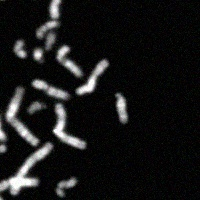chromosome: (9, 142, 52, 194), (4, 87, 39, 147), (52, 104, 86, 149), (75, 60, 108, 95), (56, 46, 83, 78), (31, 80, 68, 100), (0, 178, 38, 191), (36, 20, 59, 39), (55, 177, 76, 197), (114, 93, 127, 123), (0, 188, 31, 200), (0, 90, 5, 142), (28, 101, 46, 115), (49, 0, 62, 19), (44, 32, 55, 51), (14, 40, 26, 57), (33, 48, 44, 64), (0, 145, 6, 159)
